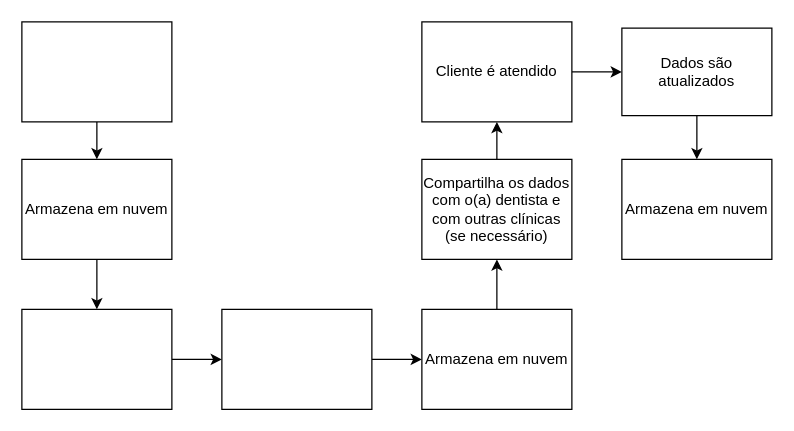
Some shapes in this 794 by 431 pixel diagram are drawn without their labels. The shapes that lost their labels are listed below. From the top down, each one's centre as x and y in pixels, then its label:
At point 96,71: "Programa recebe os horários, datas e dentistas da clínica".
At point 96,358: "Programa recebe os dados do cliente".
At point 296,358: "Informa se existe alguém naquele horário e data para atender".
